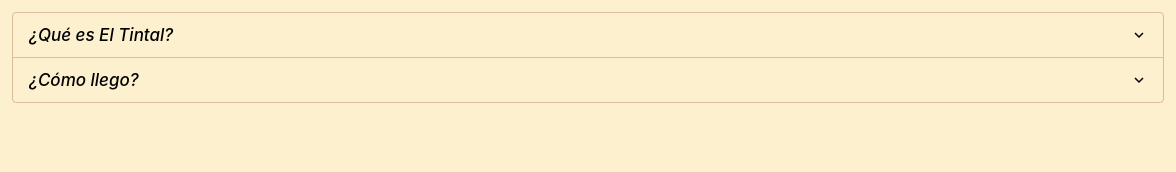
it: Accordion › empieza cerrado y abre con clic
Expected: the text "Un barrio de Kennedy." is not shown
What coordinates should you click on to do the following:
click the button "¿Qué es El Tintal?"
I would click on:
 (101, 35)
Its box is left=13, top=13, right=1163, bottom=57.
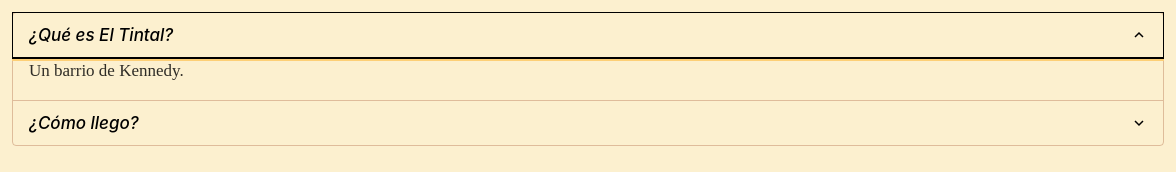
Now the button "¿Qué es El Tintal?" is expanded, box left=13, top=13, right=1163, bottom=57
Now the text named "¿Qué es El Tintal?" is shown, box left=29, top=61, right=184, bottom=80
